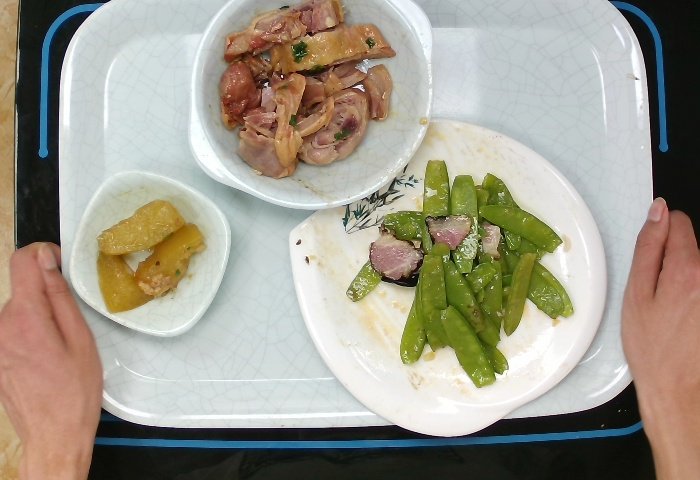JYsf-Mian_Pan: (285, 115, 612, 435)
JYsf-Shuang_Er_Wan: (193, 1, 431, 208)
JYsf-Si_Fang_Die: (69, 170, 234, 340)
